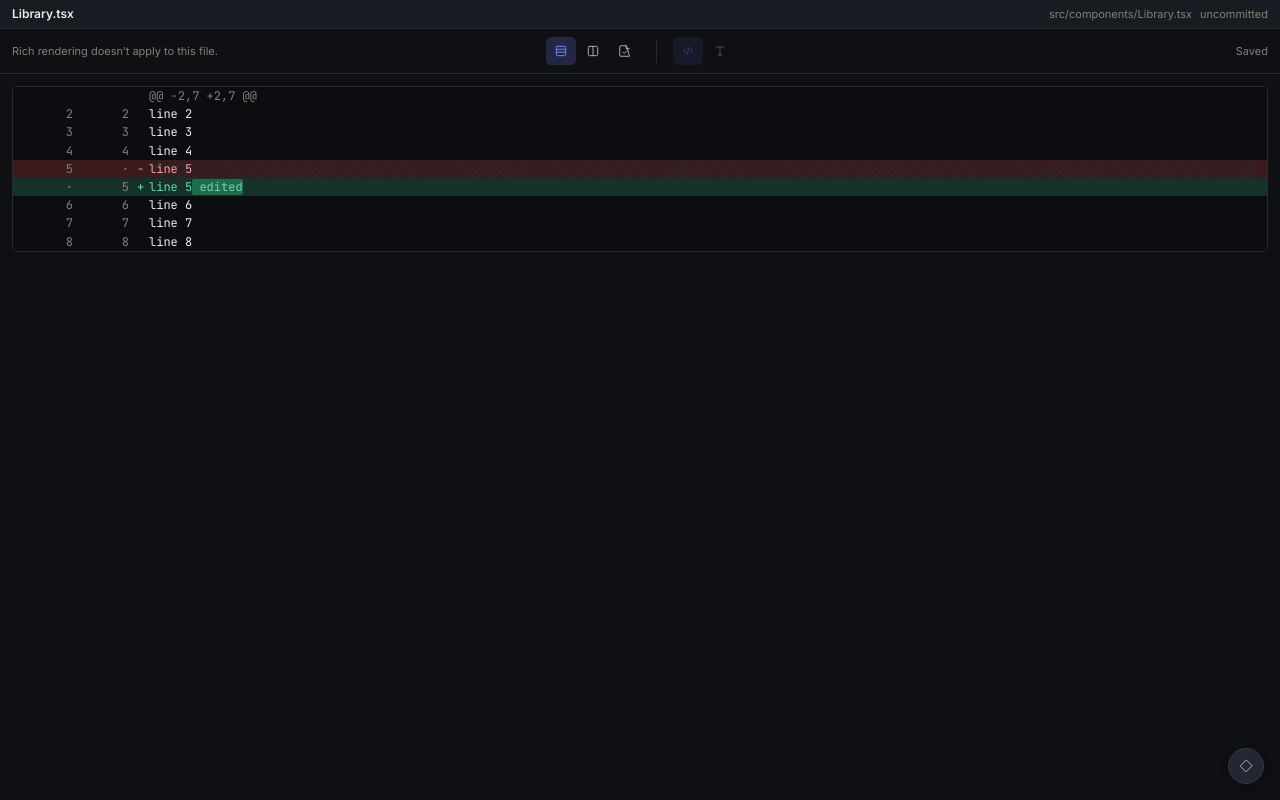
Test case: Side-by-side visualization (DFV-FR-11 .. DFV-FR-13) › gives the two panes one scroll position rather than two (DFV-FR-13)
Check: the element showing "@@ -2,7 +2,7 @@" is shown, box [13,87,1267,105]
Step 1. Click the radio button named "Side-by-side" → point(592, 51), box [578,37,608,65]
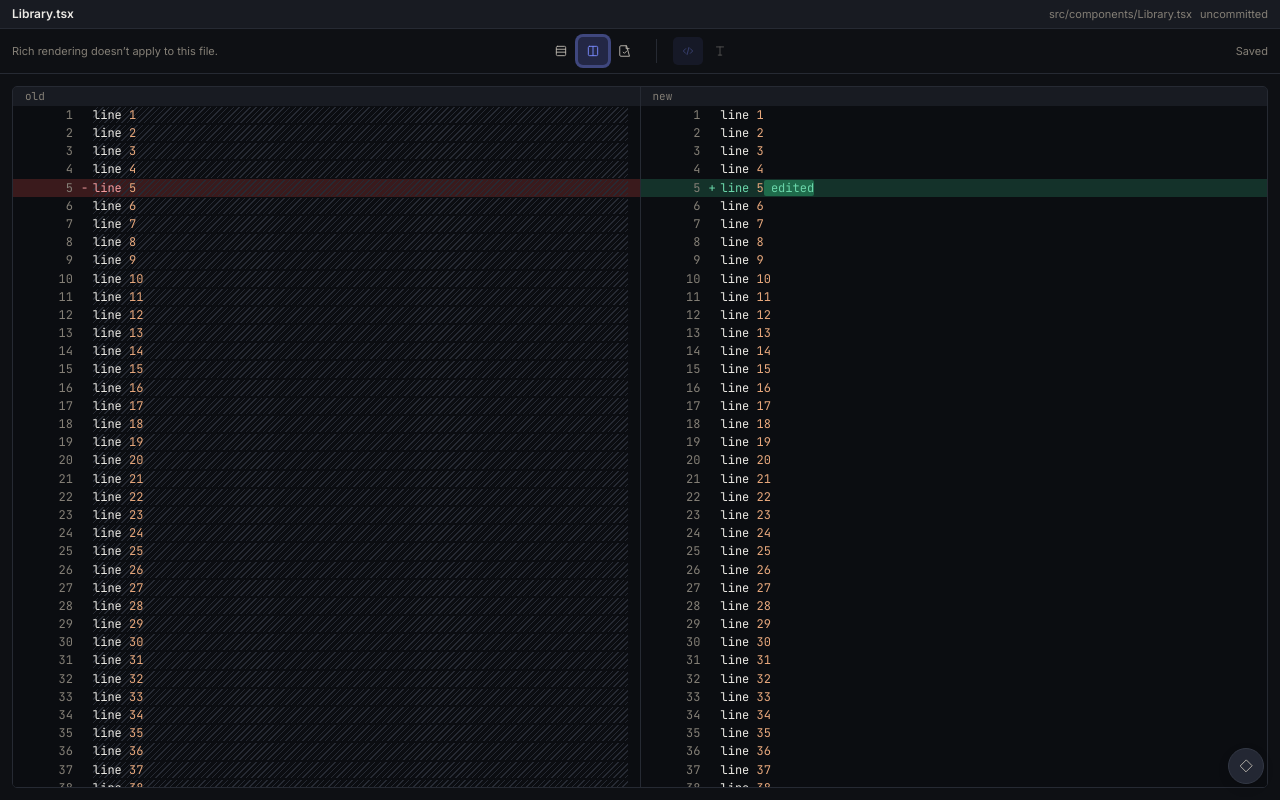
Check: the element with class "diff-sbs__cell" is shown
Check: the number of elements with class "diff-sbs__scroll" is 1
